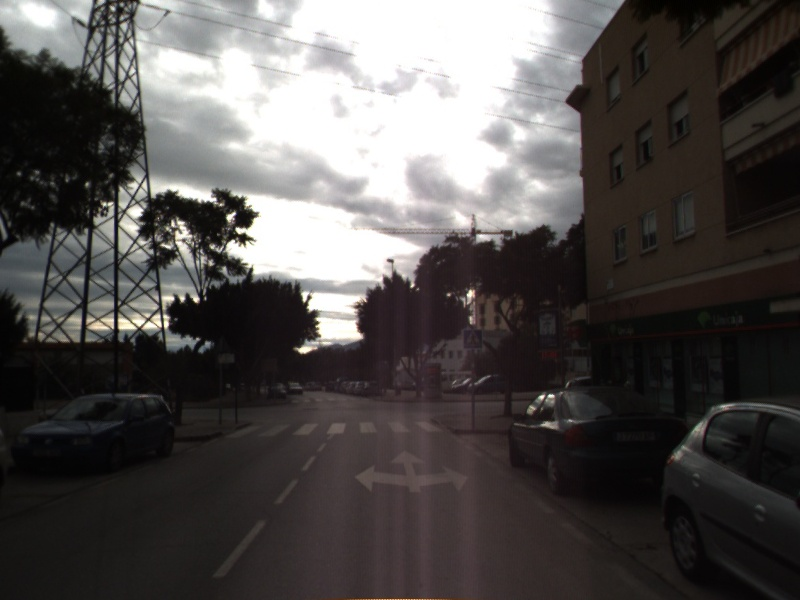STRAIGHT_LEFT_RIGHT: (352, 447, 470, 495)
